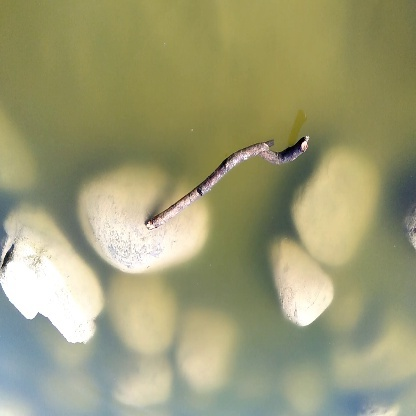branch: (147, 134, 311, 234)
